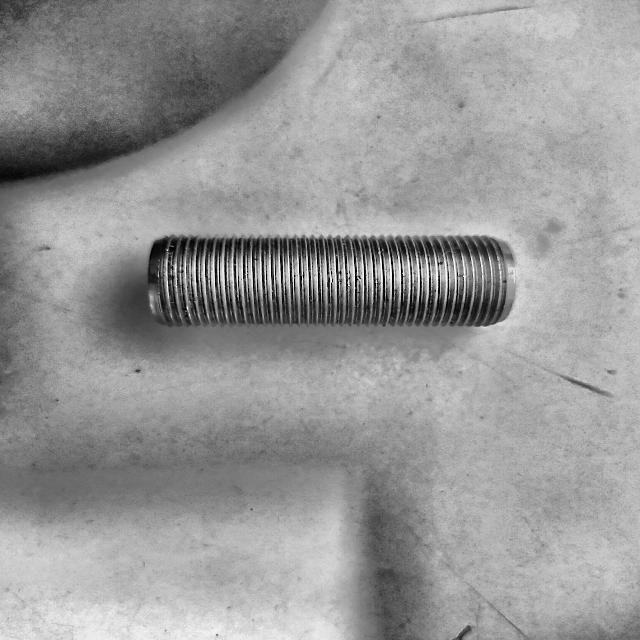Normal: (148, 234, 516, 328)
